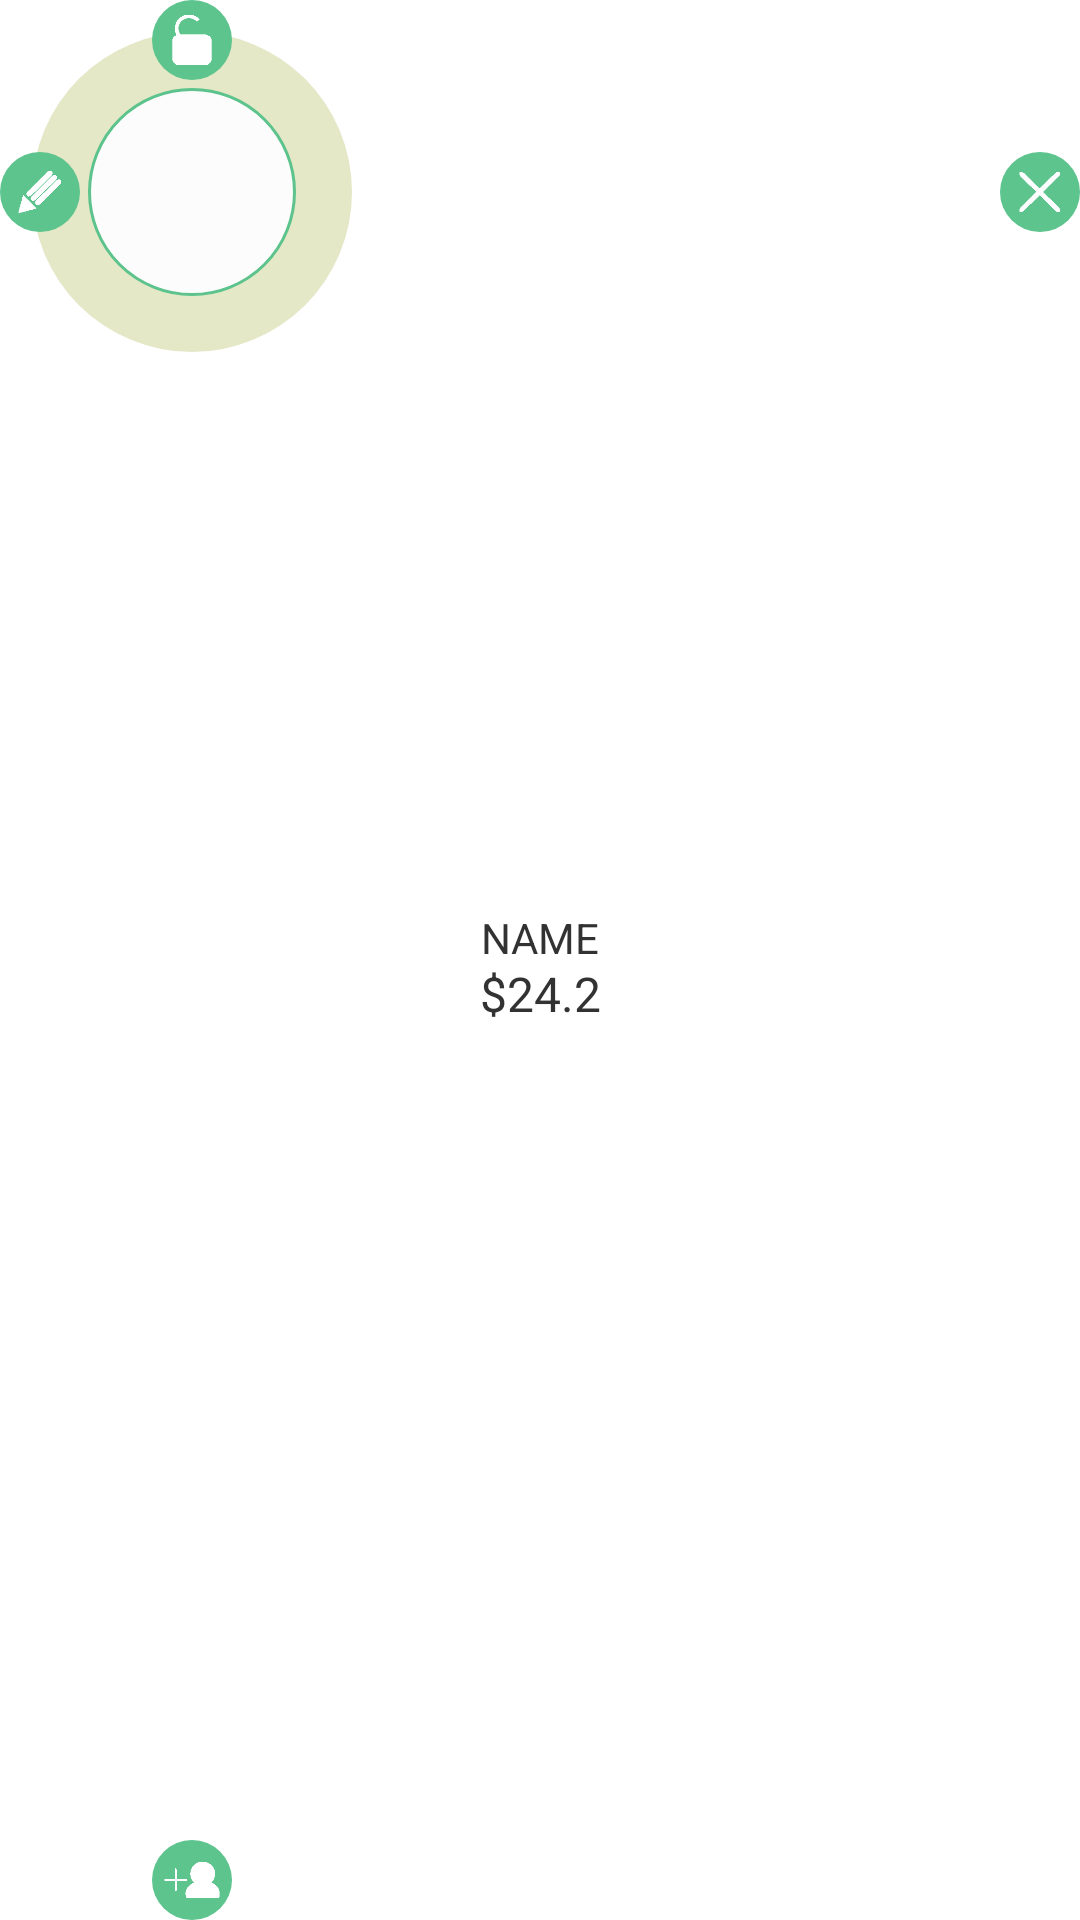

Where icons sit on this 1080×1920 app screen, as (x1, y1, x2, y2):
add person: (152, 1840, 232, 1920)
cross: (1000, 152, 1080, 232)
